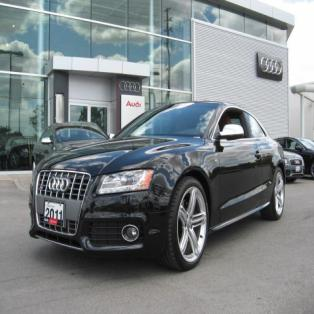Auto: (25, 96, 288, 276)
